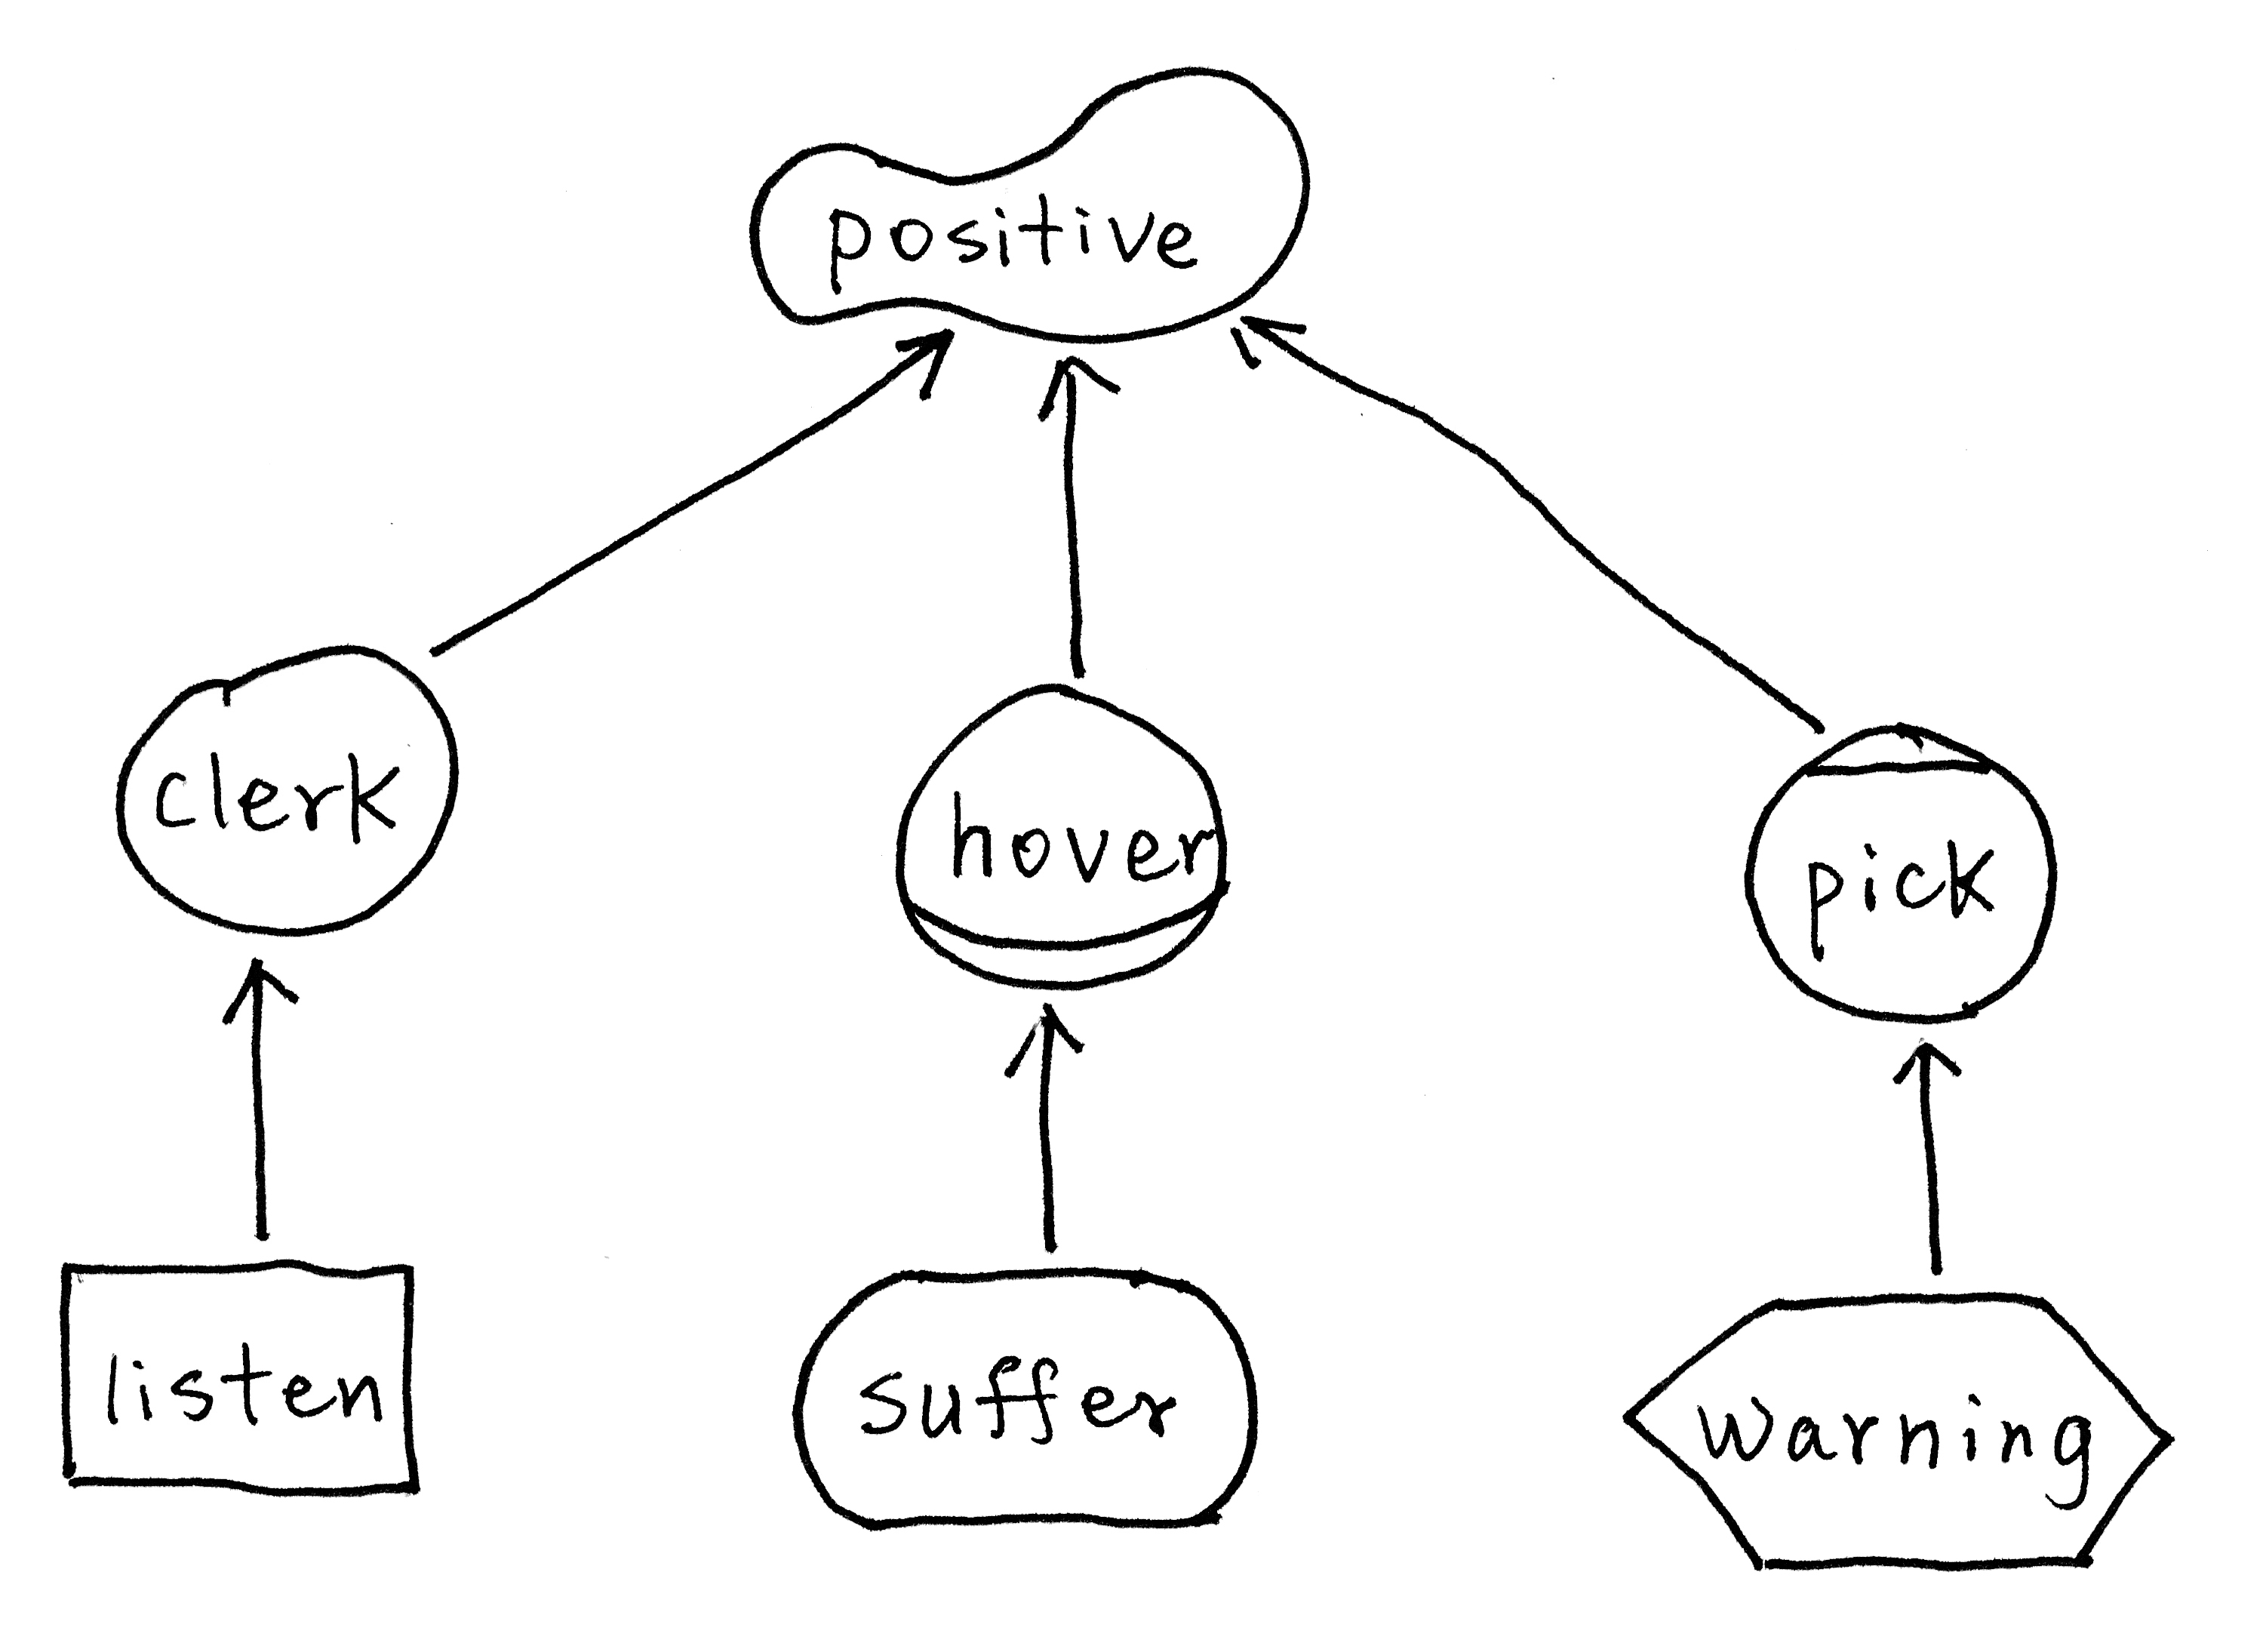actor: (97, 623, 475, 952)
agent: (1731, 704, 2080, 1031)
arrow: (992, 985, 1105, 1093), (1209, 296, 1318, 394), (209, 941, 313, 1040), (1034, 338, 1124, 443), (1863, 1027, 1977, 1103), (874, 313, 971, 399)
goal: (771, 1249, 1277, 1557)
quality: (728, 46, 1332, 357)
resource: (25, 1235, 447, 1513)
role: (873, 660, 1256, 1019)
task: (1592, 1270, 2206, 1594)
